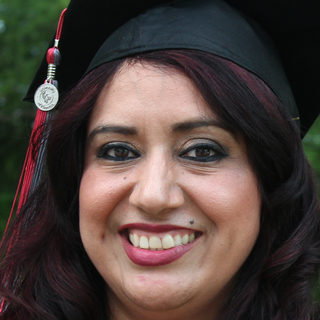eye: (92, 139, 146, 166), (175, 139, 230, 165)
